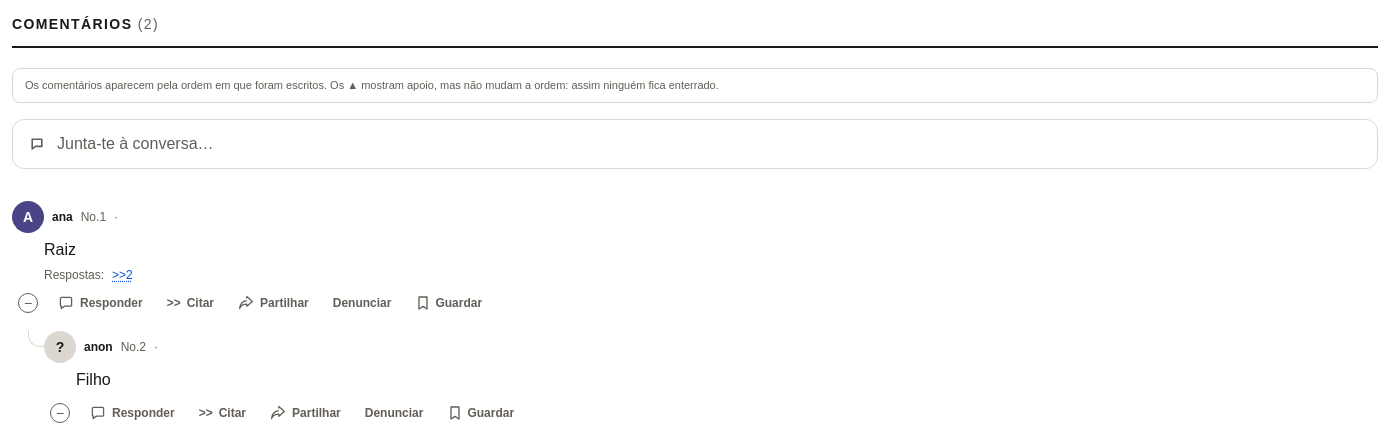
it: comments › shows replies nested under their parent, with anonymous names and post numbers
Expected: the text "anon" is shown, [84, 338, 113, 354]
Expected: the button "No.2" is shown, [121, 338, 146, 354]
Click the button named "Recolher comentário de ana". click: (28, 302)
box: [12, 286, 44, 318]
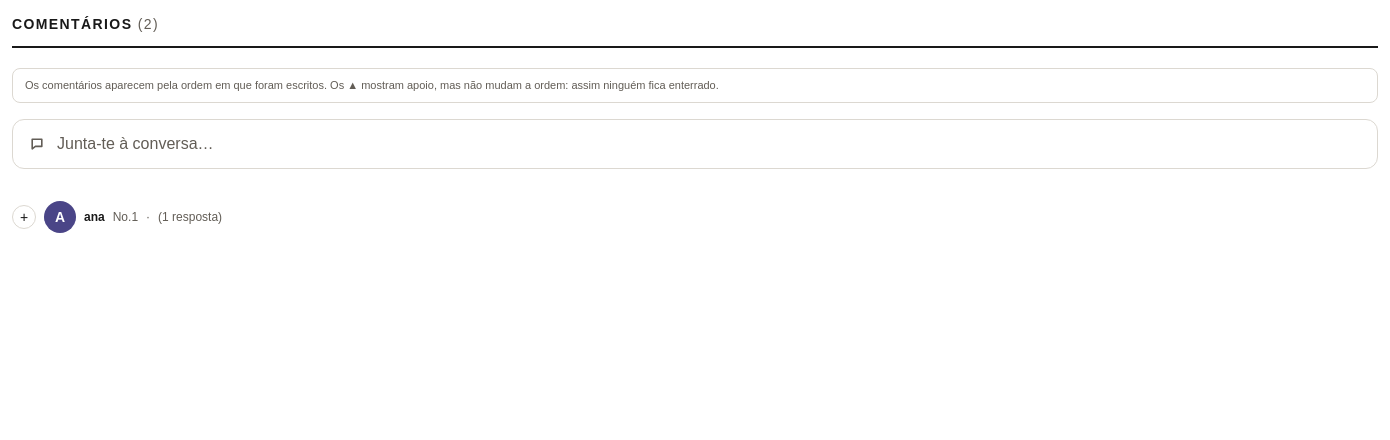
Expected: the text "Raiz" is gone
Expected: the text "Filho" is gone
Expected: the text "(1 resposta)" is shown, [158, 208, 222, 224]
